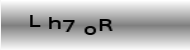7: (61, 18, 76, 33)
L: (28, 13, 42, 28)
R: (98, 18, 114, 32)
h: (47, 15, 62, 31)
o: (84, 24, 97, 36)
